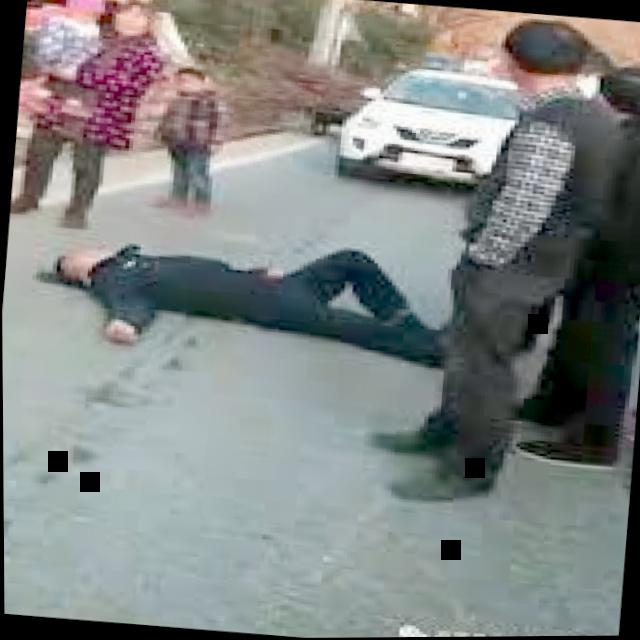Fall-Detected: (3, 207, 555, 375)
